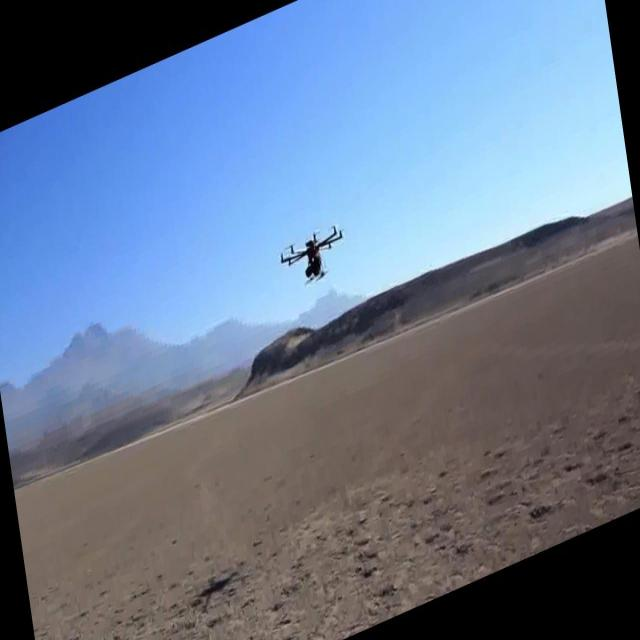drone: (278, 215, 348, 299)
